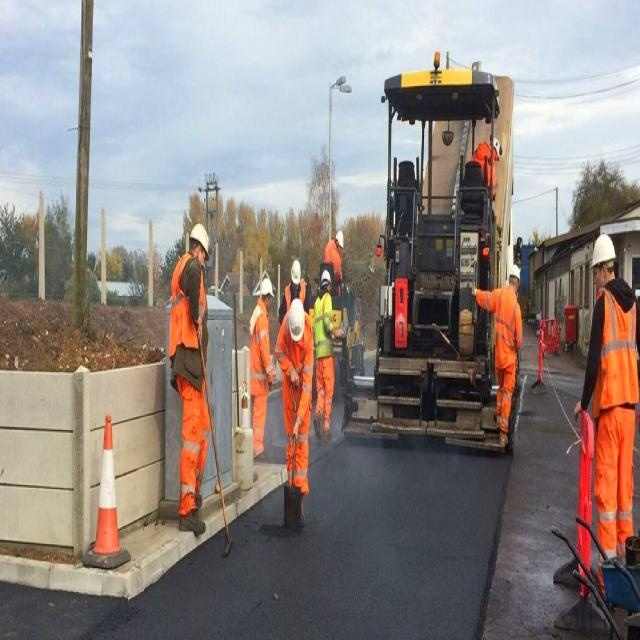Con_Casco: (589, 234, 618, 281), (189, 218, 212, 262), (289, 296, 307, 341)
Con_Chaleco: (596, 289, 640, 409), (171, 263, 206, 375), (249, 304, 276, 389), (495, 286, 522, 367), (313, 293, 333, 357)
